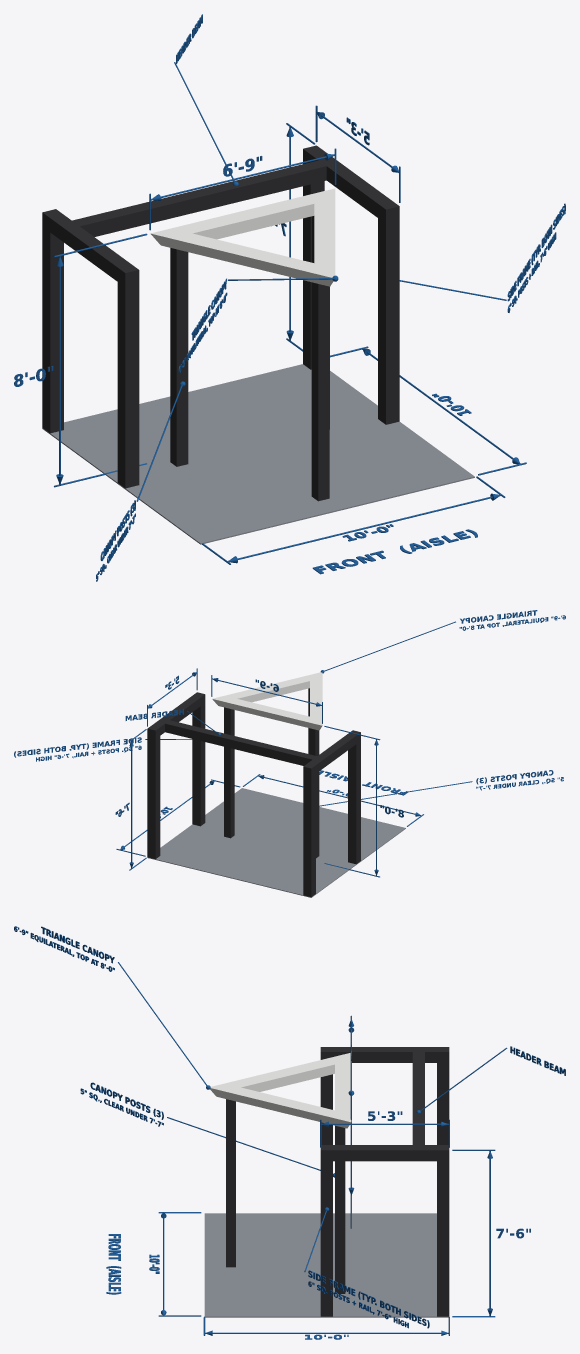
The model's file is booth_10x10.glb.
3 renders of one model, top to bottom at view 1: azimuth 30°, elevation 25°; view 2: azimuth 150°, elevation 25°; view 3: azimuth 270°, elevation 25°, orthographic. The views are drawn at different scales.
Parts seen in each view (by area): view 1: Carpet, Triangle_Canopy, Header_Beam, Left_Front_Post, Right_Front_Post, Left_Back_Post, Canopy_Post_Front, Canopy_Post_Left, Left_Top_Rail, Right_Top_Rail, Right_Back_Post, Label_Side_Frame (+7 smaller); view 2: Carpet, Triangle_Canopy, Header_Beam, Right_Back_Post, Left_Back_Post, Left_Front_Post, Right_Front_Post, Canopy_Post_Right, Label_Canopy, Label_Side_Frame, Label_Canopy_Posts, Left_Top_Rail (+5 smaller); view 3: Carpet, Triangle_Canopy, Right_Back_Post, Right_Front_Post, Right_Top_Rail, Canopy_Post_Front, Canopy_Post_Right, Left_Top_Rail, Label_Side_Frame, Left_Back_Post, Label_Canopy, Header_Beam (+8 smaller).
Boxes of the visible parts, x1=… form: Carpet: x1=42, y1=364, x2=474, y2=544; Triangle_Canopy: x1=150, y1=188, x2=335, y2=286; Header_Beam: x1=72, y1=160, x2=326, y2=236; Left_Front_Post: x1=117, y1=264, x2=139, y2=488; Right_Front_Post: x1=378, y1=200, x2=399, y2=424; Left_Back_Post: x1=42, y1=209, x2=63, y2=433; Canopy_Post_Front: x1=311, y1=282, x2=329, y2=501; Canopy_Post_Left: x1=170, y1=248, x2=188, y2=466; Left_Top_Rail: x1=50, y1=215, x2=130, y2=281; Right_Top_Rail: x1=310, y1=151, x2=391, y2=217; Right_Back_Post: x1=303, y1=145, x2=324, y2=369; Label_Side_Frame: x1=399, y1=203, x2=565, y2=312; Carpet: x1=147, y1=788, x2=405, y2=897; Triangle_Canopy: x1=212, y1=672, x2=322, y2=730; Header_Beam: x1=165, y1=720, x2=316, y2=765; Right_Back_Post: x1=147, y1=725, x2=160, y2=858; Left_Back_Post: x1=303, y1=763, x2=315, y2=897; Left_Front_Post: x1=348, y1=730, x2=360, y2=864; Right_Front_Post: x1=192, y1=692, x2=205, y2=826; Canopy_Post_Right: x1=224, y1=707, x2=234, y2=838; Label_Canopy: x1=320, y1=610, x2=565, y2=673; Label_Side_Frame: x1=14, y1=737, x2=192, y2=761; Label_Canopy_Posts: x1=319, y1=770, x2=563, y2=806; Left_Top_Rail: x1=308, y1=733, x2=356, y2=773; Carpet: x1=204, y1=1213, x2=448, y2=1317; Triangle_Canopy: x1=210, y1=1053, x2=351, y2=1128; Right_Back_Post: x1=437, y1=1145, x2=449, y2=1316; Right_Front_Post: x1=320, y1=1145, x2=332, y2=1316; Right_Top_Rail: x1=333, y1=1145, x2=436, y2=1161; Canopy_Post_Front: x1=226, y1=1099, x2=235, y2=1267; Canopy_Post_Right: x1=335, y1=1125, x2=345, y2=1293; Left_Top_Rail: x1=333, y1=1047, x2=436, y2=1062; Label_Side_Frame: x1=304, y1=1207, x2=429, y2=1328; Left_Back_Post: x1=437, y1=1047, x2=449, y2=1144; Label_Canopy: x1=14, y1=926, x2=210, y2=1089; Header_Beam: x1=412, y1=1052, x2=424, y2=1144.
Bounding box in the file's own units: 7.72 × 3.37 × 6.87.
